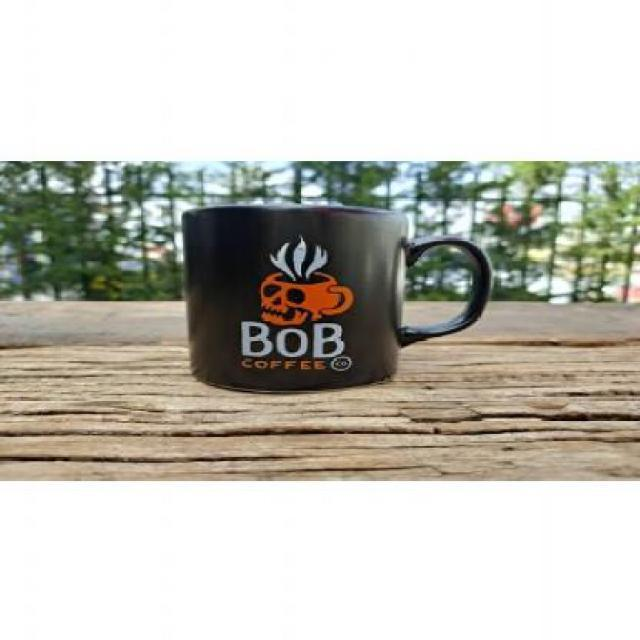taza: (181, 202, 493, 394)
